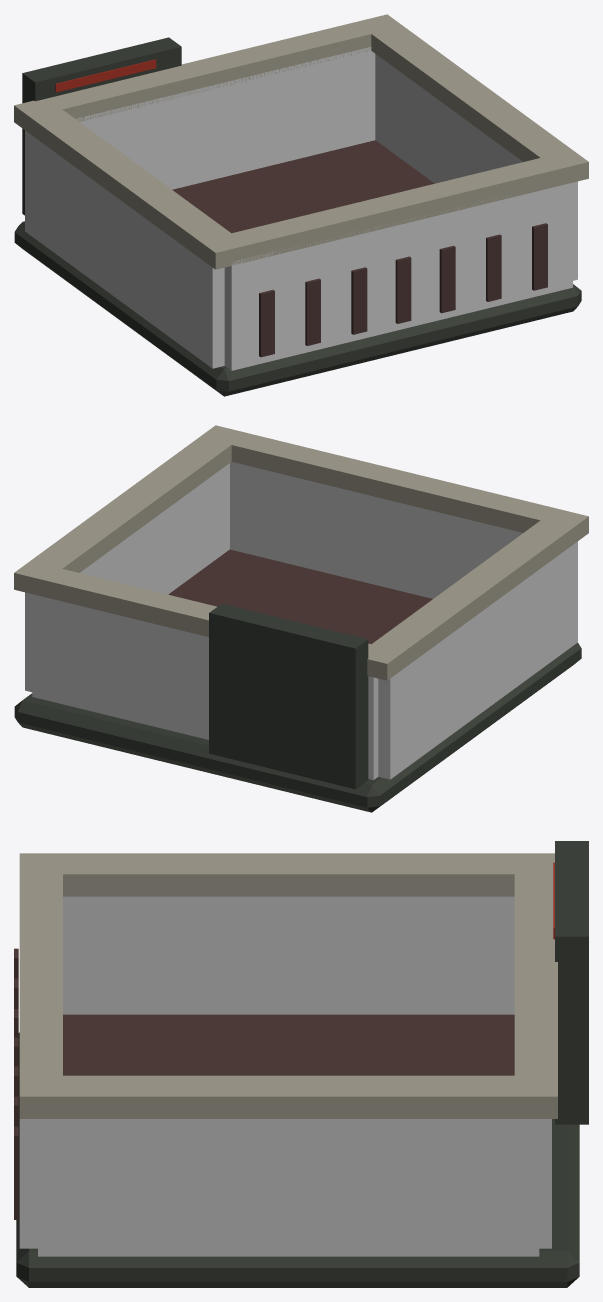
File: security_crate_open.obj
3 views of the same model, one above another, from view 1: azimuth 30°, elevation 25°; view 2: azimuth 150°, elevation 25°; view 3: azimuth 270°, elevation 25° (orthographic). The views are drawn at different scales.
Visible parts, largest first — view 1: security_crate_open; view 2: security_crate_open; view 3: security_crate_open.
Part boxes in pixels (bbox=[...]): security_crate_open: bbox=[14, 14, 588, 396]; security_crate_open: bbox=[14, 425, 588, 812]; security_crate_open: bbox=[14, 841, 588, 1287].
Size of the model in its own units: 1.86 by 0.8 by 1.86.
